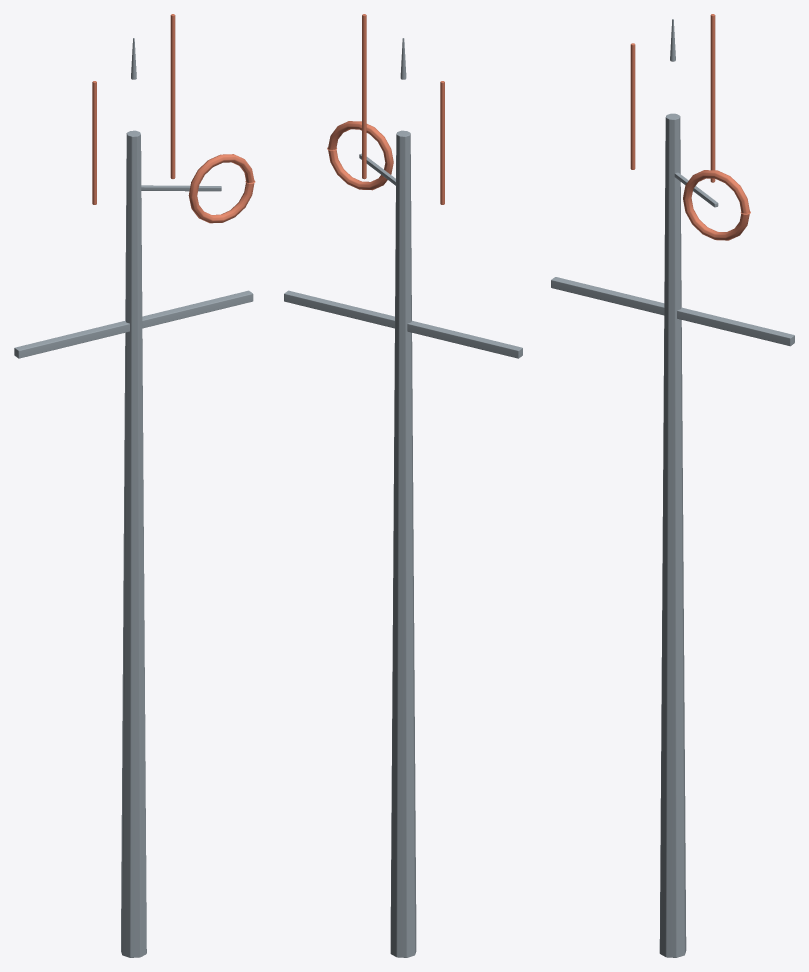
Rendered from mast_antennas.glb.
The picture shows the model from 3 angles, left to right: view 1: azimuth 30°, elevation 25°; view 2: azimuth 150°, elevation 25°; view 3: azimuth 330°, elevation 25°; orthographic projection. The views are drawn at different scales.
Visible parts, largest first — view 1: mast_antennas; view 2: mast_antennas; view 3: mast_antennas.
Boxes of the visible parts, bbox=[...] form: mast_antennas: bbox=[14, 14, 255, 957]; mast_antennas: bbox=[284, 14, 522, 957]; mast_antennas: bbox=[551, 14, 794, 957].
Bounding box in the file's own units: 1.8 × 6.8 × 0.4241.
